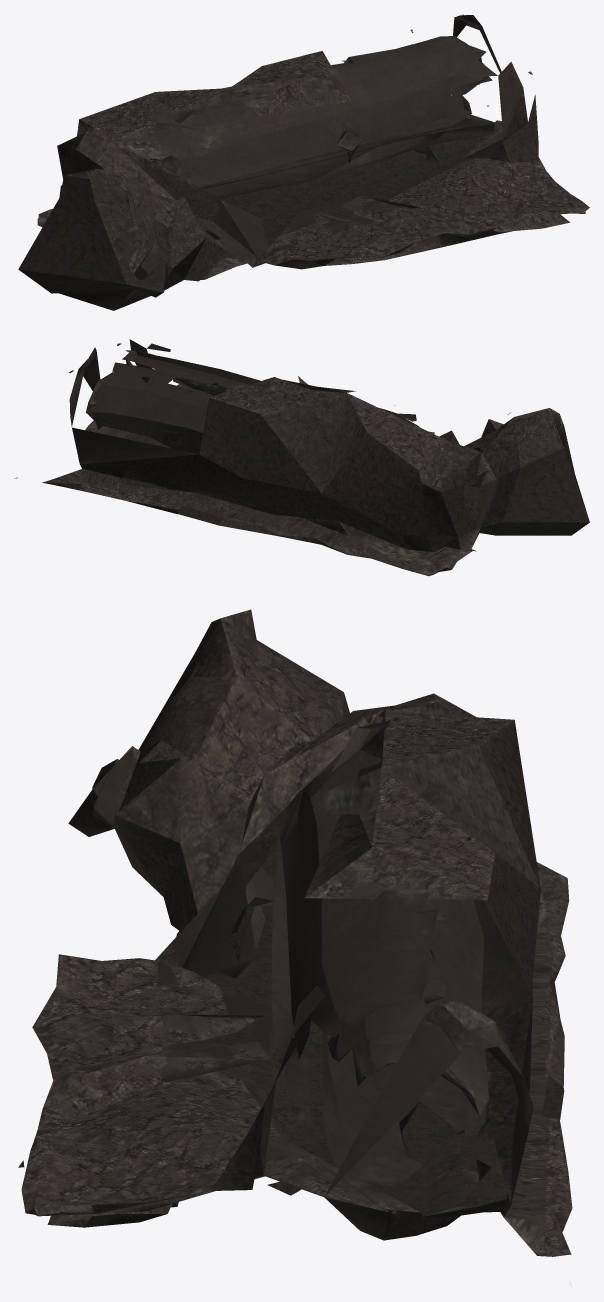
File: m16-bandit-bedroll.glb
3 renders of one model, top to bottom at view 1: azimuth 30°, elevation 25°; view 2: azimuth 150°, elevation 25°; view 3: azimuth 270°, elevation 25°, orthographic. The views are drawn at different scales.
Bounding box in the file's own units: 1.88 × 0.4337 × 0.9156.
1 material, 1 textured.
